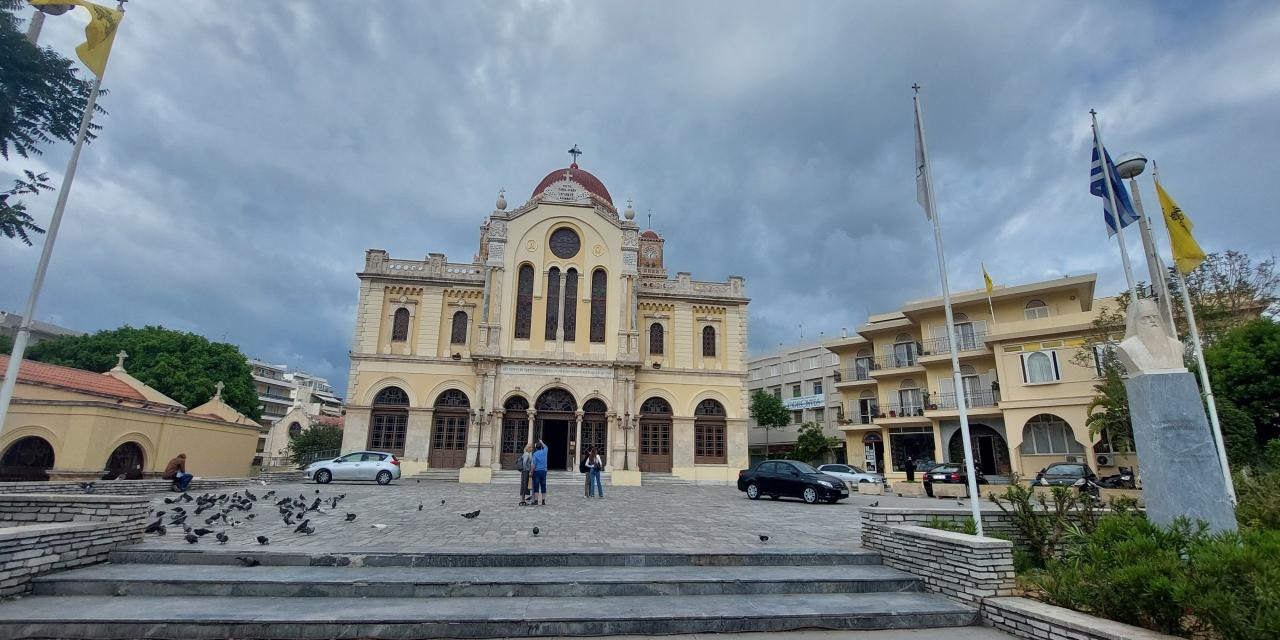Agios Minas: (333, 113, 753, 491)
